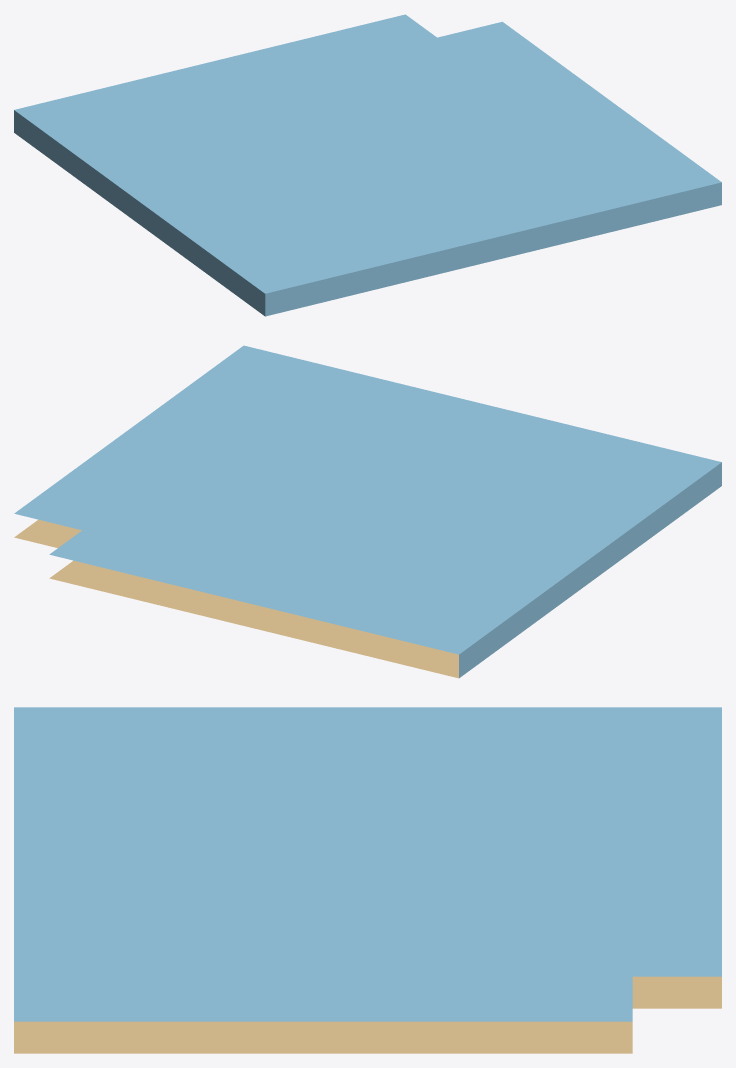
The model's file is mesh_police_Floor2F.fbx.
3 renders of one model, top to bottom at view 1: azimuth 30°, elevation 25°; view 2: azimuth 150°, elevation 25°; view 3: azimuth 270°, elevation 25°, orthographic. The views are drawn at different scales.
Parts seen in each view (by area): view 1: Police_FloorPlane2F; view 2: Police_FloorPlane2F; view 3: Police_FloorPlane2F.
Part boxes in pixels (x1,y1,x2,y2): Police_FloorPlane2F: (14,14,721,316); Police_FloorPlane2F: (14,345,721,678); Police_FloorPlane2F: (14,707,721,1053).
Size of the model in its own units: 1050 by 50 by 1000.
